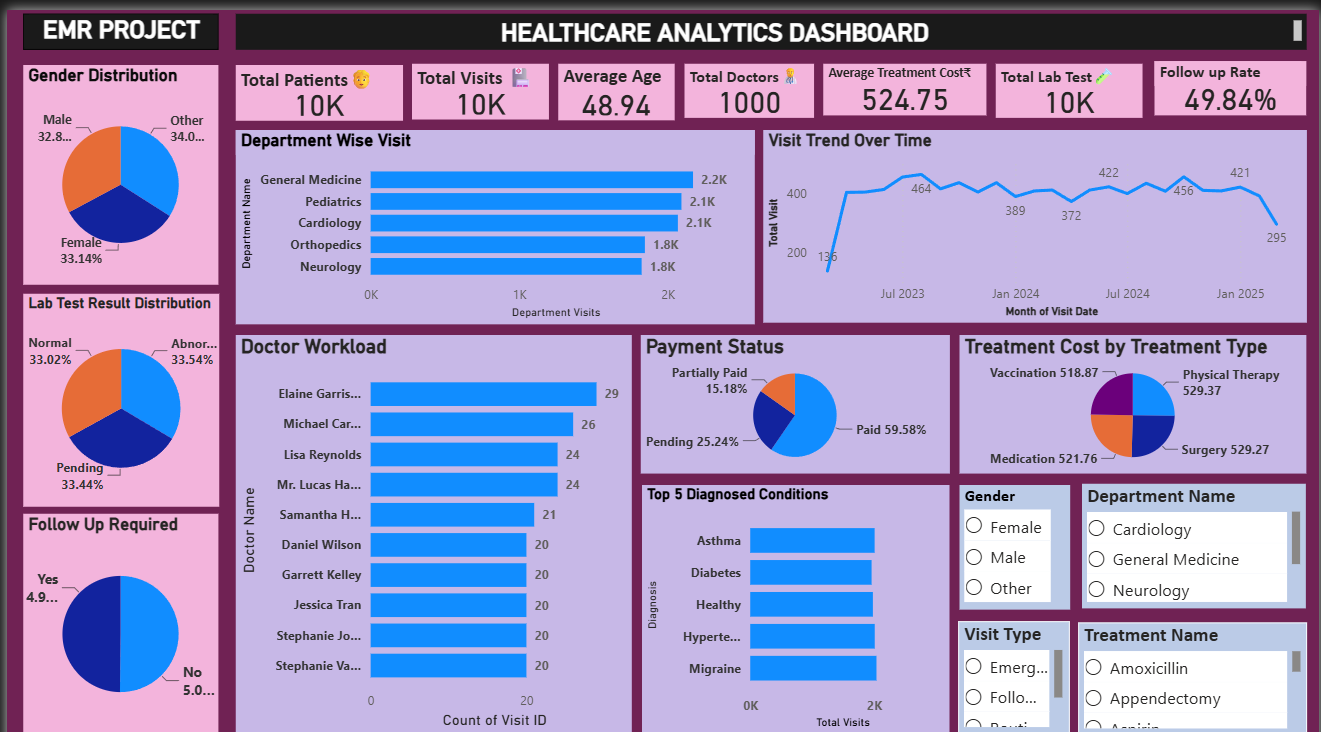

What the dashboard file says about the page in this screenshot:
{"tool":"powerbi","page":{"name":"Dashboard","canvas":[1280,720],"ordinal":16},"visuals":[{"type":"card","title":"Total Patients🧑 ","fields":{"Values":["👤 Patient.Total Patients"]},"box":[223.2,53.1,162.9,54.3],"z":0},{"type":"card","title":"Total Visits 🏥","fields":{"Values":["🏥 Visit.Total Visits"]},"box":[395.7,51.9,133.9,54.3],"z":1000},{"type":"card","title":"Average Age","fields":{"Values":["👤 Patient.Average Age"]},"box":[538.1,51.9,113.4,55.5],"z":2000},{"type":"card","title":"Total Doctors👨⚕️","fields":{"Values":["👨⚕️ Doctor.Total Doctors"]},"box":[661.1,51.9,126.7,53.1],"z":3000},{"type":"card","title":"Total Lab Test🧪","fields":{"Values":["🧪 Lab Test.Total Lab Test"]},"box":[965.2,51.9,143.6,53.1],"z":4000},{"type":"card","title":"Average Treatment Cost₹","fields":{"Values":["💊 Treatment.Avg Treatment Cost"]},"box":[796.3,51.9,159.3,50.7],"z":5000},{"type":"card","title":"Follow up Rate","fields":{"Values":["🏥 Visit.Followup Rate"]},"box":[1119.6,49.5,148.4,53.1],"z":6000},{"type":"pieChart","title":"Gender Distribution","fields":{"Category":["👤 Patient.Gender"],"Y":["👤 Patient.Total Patients"]},"box":[15.9,53.7,190.2,214.6],"z":7000},{"type":"pieChart","title":"Follow Up Required","fields":{"Category":["🏥 Visit.Follow Up Required"],"Y":["CountNonNull(🏥 Visit.Visit ID)"]},"box":[15.9,491.5,190.2,215.9],"z":8000},{"type":"pieChart","title":"Lab Test Result Distribution","fields":{"Category":["🧪 Lab Test.Test Result"],"Y":["CountNonNull(🧪 Lab Test.Lab Result ID)"]},"box":[15.9,276.8,191.5,207.3],"z":9000},{"type":"clusteredBarChart","title":"Top 5 Diagnosed Conditions","fields":{"Category":["🏥 Visit.Diagnosis"],"Y":["🏥 Visit.Total Visits"]},"box":[620,463.1,300,243.1],"z":10000},{"type":"clusteredBarChart","title":"Department Wise Visit","fields":{"Category":["🏢 Department.Department Name"],"Y":["🏥 Visit.Department Visits"]},"box":[223.1,116.9,506.2,189.2],"z":11000},{"type":"clusteredBarChart","title":"Doctor Workload","fields":{"Category":["👨⚕️ Doctor.Doctor Name"],"Y":["CountNonNull(🏥 Visit.Visit ID)"]},"box":[223.1,316.9,386.2,389.2],"z":12000},{"type":"lineChart","title":"Visit Trend Over Time","fields":{"Category":["🏥 Visit.Visit Date.Variation.Date Hierarchy.Year","🏥 Visit.Visit Date.Variation.Date Hierarchy.Month"],"Y":["Count(🏥 Visit.Visit ID)"]},"box":[738,117,530,188],"z":13000},{"type":"pieChart","title":"Payment Status","fields":{"Category":["💳 Billing.Payment Status"],"Y":["CountNonNull(💳 Billing.Bill ID)"]},"box":[618.3,317.1,301.2,135.4],"z":14000},{"type":"pieChart","title":"Treatment Cost by Treatment Type","fields":{"Category":["💊 Treatment.Treatment Type"],"Y":["💊 Treatment.Avg Treatment Cost"]},"box":[929.2,316.9,338.5,135.4],"z":15000},{"type":"listSlicer","fields":{"Values":["👤 Patient.Gender"]},"box":[929.2,463.1,107.7,121.5],"z":16000},{"type":"listSlicer","fields":{"Values":["🏢 Department.Department Name"]},"box":[1049.3,462.7,218.7,121.3],"z":17000},{"type":"listSlicer","fields":{"Values":["💊 Treatment.Treatment Name"]},"box":[1044.8,597.2,223.2,109.8],"z":18000},{"type":"listSlicer","fields":{"Values":["🏥 Visit.Visit Type"]},"box":[927.8,596,108.6,109.8],"z":19000},{"type":"textbox","box":[223.2,3.6,1044.8,35],"z":20000},{"type":"textbox","title":"EMR PROJECT","box":[15.9,3.7,190.2,35.4],"z":21000}]}

Visuals, with their boxes in screenshot pixels (x1, y1, x2, y2), scaled from the page's 1280x720 canvas onto the 1321x732 screenshot:
"Total Patients🧑 " card: bbox=(230, 54, 398, 109)
"Total Visits 🏥" card: bbox=(408, 53, 547, 108)
"Average Age" card: bbox=(555, 53, 672, 109)
"Total Doctors👨⚕️" card: bbox=(682, 53, 813, 107)
"Total Lab Test🧪" card: bbox=(996, 53, 1144, 107)
"Average Treatment Cost₹" card: bbox=(822, 53, 986, 104)
"Follow up Rate" card: bbox=(1155, 50, 1309, 104)
"Gender Distribution" pieChart: bbox=(16, 55, 213, 273)
"Follow Up Required" pieChart: bbox=(16, 500, 213, 719)
"Lab Test Result Distribution" pieChart: bbox=(16, 281, 214, 492)
"Top 5 Diagnosed Conditions" clusteredBarChart: bbox=(640, 471, 949, 718)
"Department Wise Visit" clusteredBarChart: bbox=(230, 119, 753, 311)
"Doctor Workload" clusteredBarChart: bbox=(230, 322, 629, 718)
"Visit Trend Over Time" lineChart: bbox=(762, 119, 1309, 310)
"Payment Status" pieChart: bbox=(638, 322, 949, 460)
"Treatment Cost by Treatment Type" pieChart: bbox=(959, 322, 1308, 460)
listSlicer - 👤 Patient.Gender: bbox=(959, 471, 1070, 594)
listSlicer - 🏢 Department.Department Name: bbox=(1083, 470, 1309, 594)
listSlicer - 💊 Treatment.Treatment Name: bbox=(1078, 607, 1309, 719)
listSlicer - 🏥 Visit.Visit Type: bbox=(958, 606, 1070, 718)
textbox: bbox=(230, 4, 1309, 39)
"EMR PROJECT" textbox: bbox=(16, 4, 213, 40)
